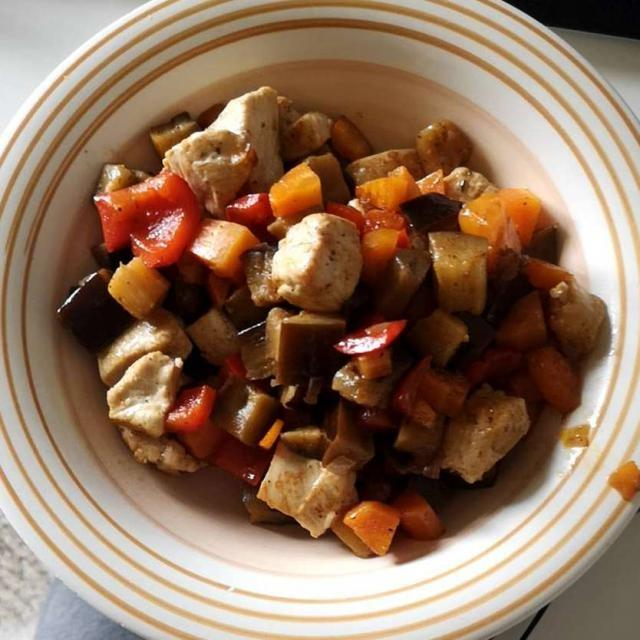chicken: (87, 86, 534, 537)
ratatouille: (69, 92, 597, 544)
